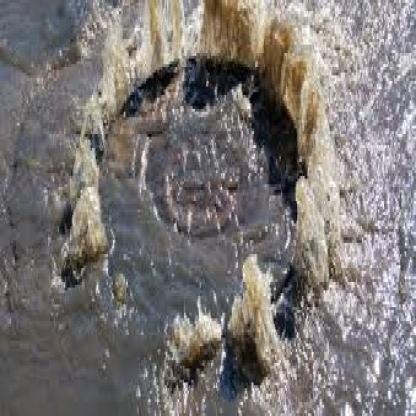drainage overflow-repair-: (64, 0, 366, 399)
